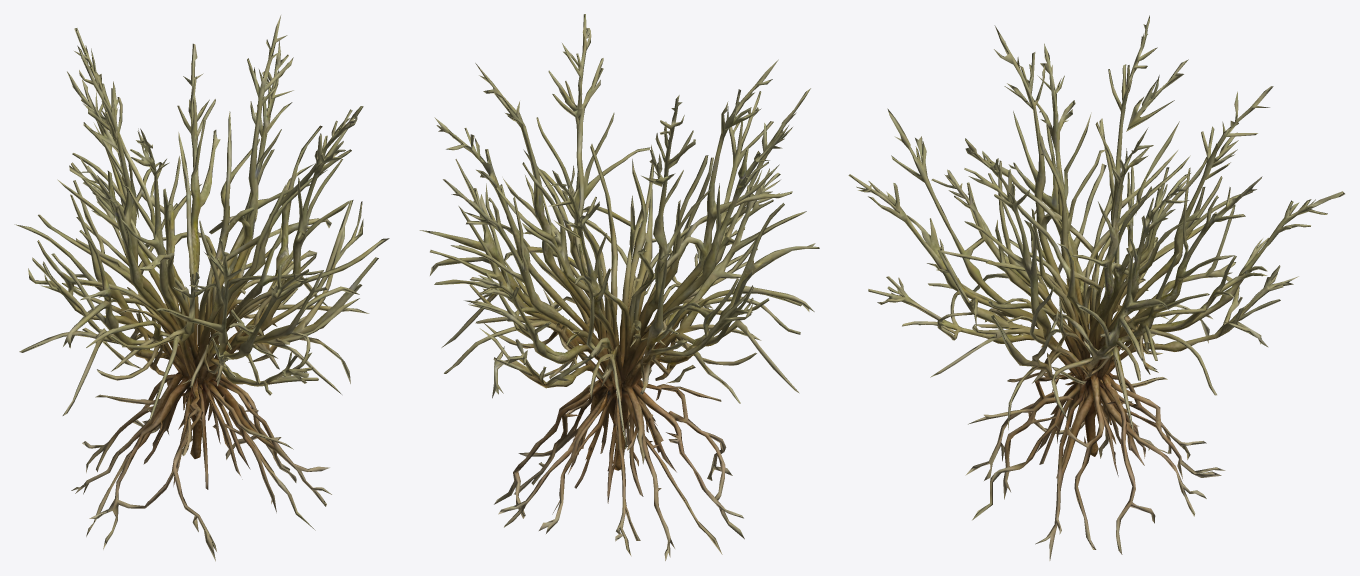
The model's file is desertgrass.glb.
3 views of the same model, side by side, from view 1: azimuth 30°, elevation 25°; view 2: azimuth 150°, elevation 25°; view 3: azimuth 270°, elevation 25° (orthographic). The views are drawn at different scales.
Parts seen in each view (by area): view 1: tripo_node_c266d0ee-977c-4d2d-a9f4-00d4acecbff1; view 2: tripo_node_c266d0ee-977c-4d2d-a9f4-00d4acecbff1; view 3: tripo_node_c266d0ee-977c-4d2d-a9f4-00d4acecbff1.
Boxes of the visible parts, x1,y1,x2,y2 form: tripo_node_c266d0ee-977c-4d2d-a9f4-00d4acecbff1: [14, 15, 389, 561]; tripo_node_c266d0ee-977c-4d2d-a9f4-00d4acecbff1: [419, 14, 819, 560]; tripo_node_c266d0ee-977c-4d2d-a9f4-00d4acecbff1: [848, 15, 1344, 560].
Bounding box in the file's own units: 0.7211 × 1 × 0.9897.
1 material, 1 textured.
